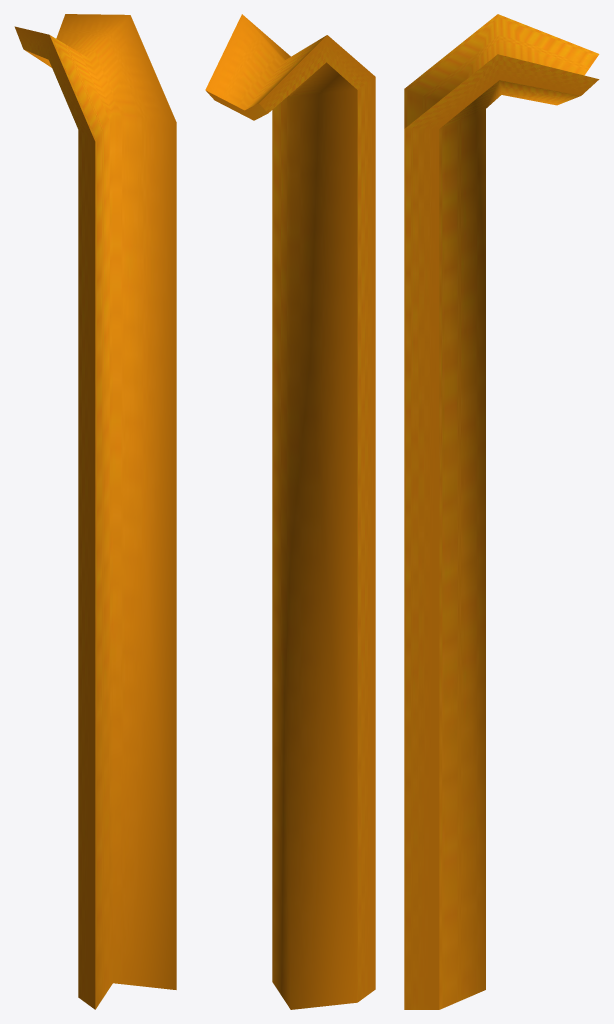
The model's file is shoe helper1.FBX.
3 renders of one model, left to right at view 1: azimuth 30°, elevation 25°; view 2: azimuth 150°, elevation 25°; view 3: azimuth 270°, elevation 25°, orthographic. The views are drawn at different scales.
Visible parts, largest first — view 1: Box001; view 2: Box001; view 3: Box001.
Boxes of the visible parts, x1,y1,x2,y2 form: Box001: (14, 14, 176, 1009); Box001: (205, 14, 375, 1009); Box001: (404, 14, 599, 1009).
Bounding box in the file's own units: 5.97 × 66.22 × 12.25.
Materials: 1 (1 with a texture image).
